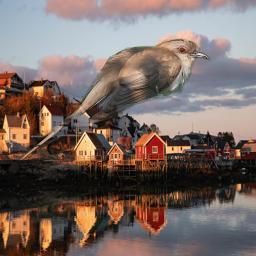Cuckoo: (19, 38, 211, 162)
